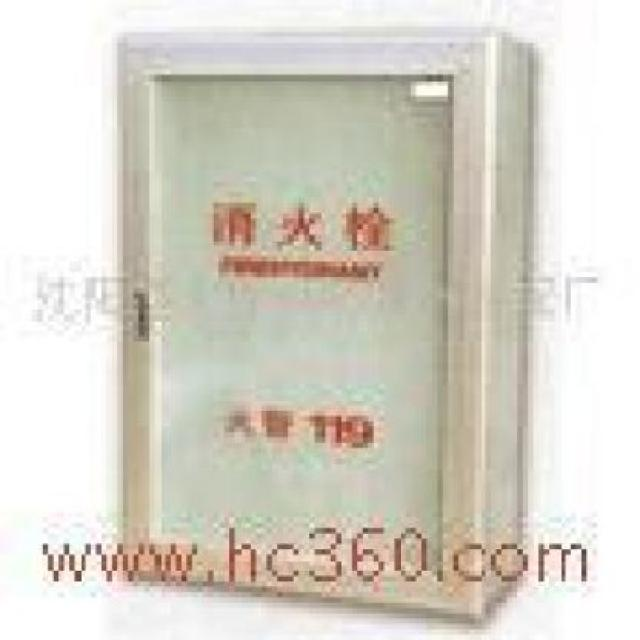firehydrant: (105, 20, 538, 626)
